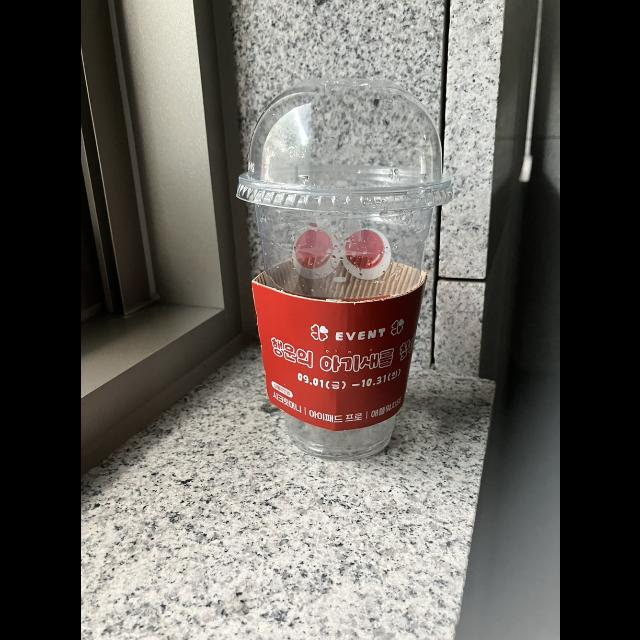plastic_cup: (233, 84, 459, 466)
plastic_cup_lid: (233, 84, 453, 212)
